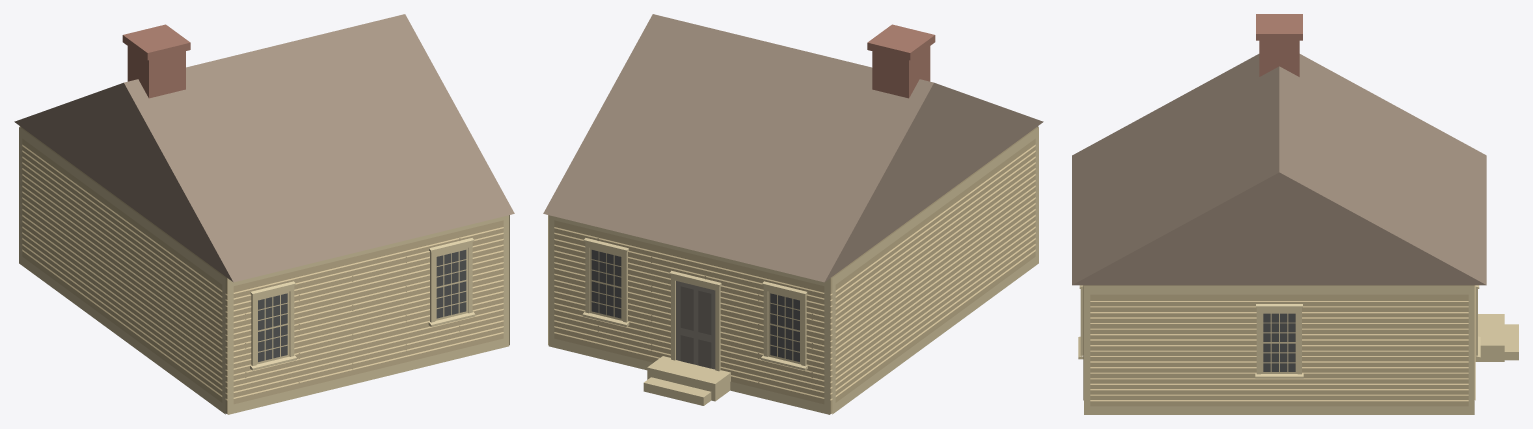
The model's file is recon_1835_south_d4_026__inferred_1835.glb.
The picture shows the model from 3 angles, left to right: view 1: azimuth 30°, elevation 25°; view 2: azimuth 150°, elevation 25°; view 3: azimuth 270°, elevation 25°; orthographic projection. The views are drawn at different scales.
Visible parts, largest first — view 1: recon_1835_south_d4_026__inferred_1835; view 2: recon_1835_south_d4_026__inferred_1835; view 3: recon_1835_south_d4_026__inferred_1835.
Boxes of the visible parts, <box> form: recon_1835_south_d4_026__inferred_1835: <box>14,14,514,414</box>; recon_1835_south_d4_026__inferred_1835: <box>543,14,1043,414</box>; recon_1835_south_d4_026__inferred_1835: <box>1072,14,1518,414</box>.
Bounding box in the file's own units: 6.56 × 6.35 × 9.32.
